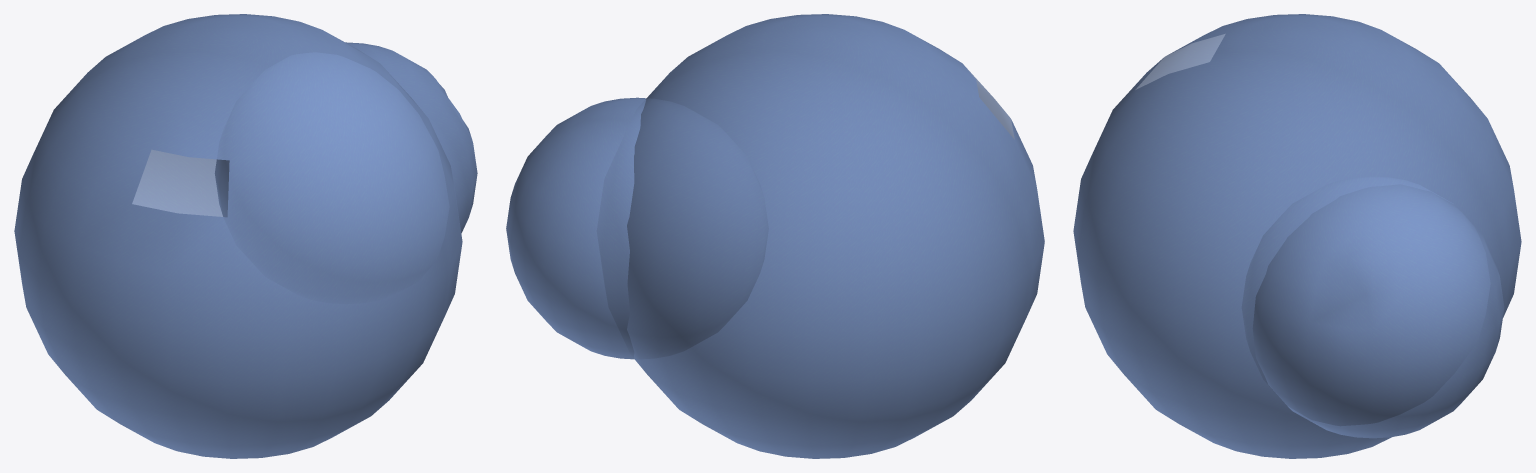
3 renders of one model, left to right at view 1: azimuth 30°, elevation 25°; view 2: azimuth 150°, elevation 25°; view 3: azimuth 270°, elevation 25°, orthographic.
Visible parts, largest first — view 1: SketchUp (×2); view 2: SketchUp (×2); view 3: SketchUp (×2).
Boxes of the visible parts, x1=… form: SketchUp (×2): x1=14, y1=14, x2=477, y2=458; SketchUp (×2): x1=506, y1=14, x2=1044, y2=458; SketchUp (×2): x1=1073, y1=14, x2=1521, y2=458.
Size of the model in its own units: 978 by 837 by 834.
